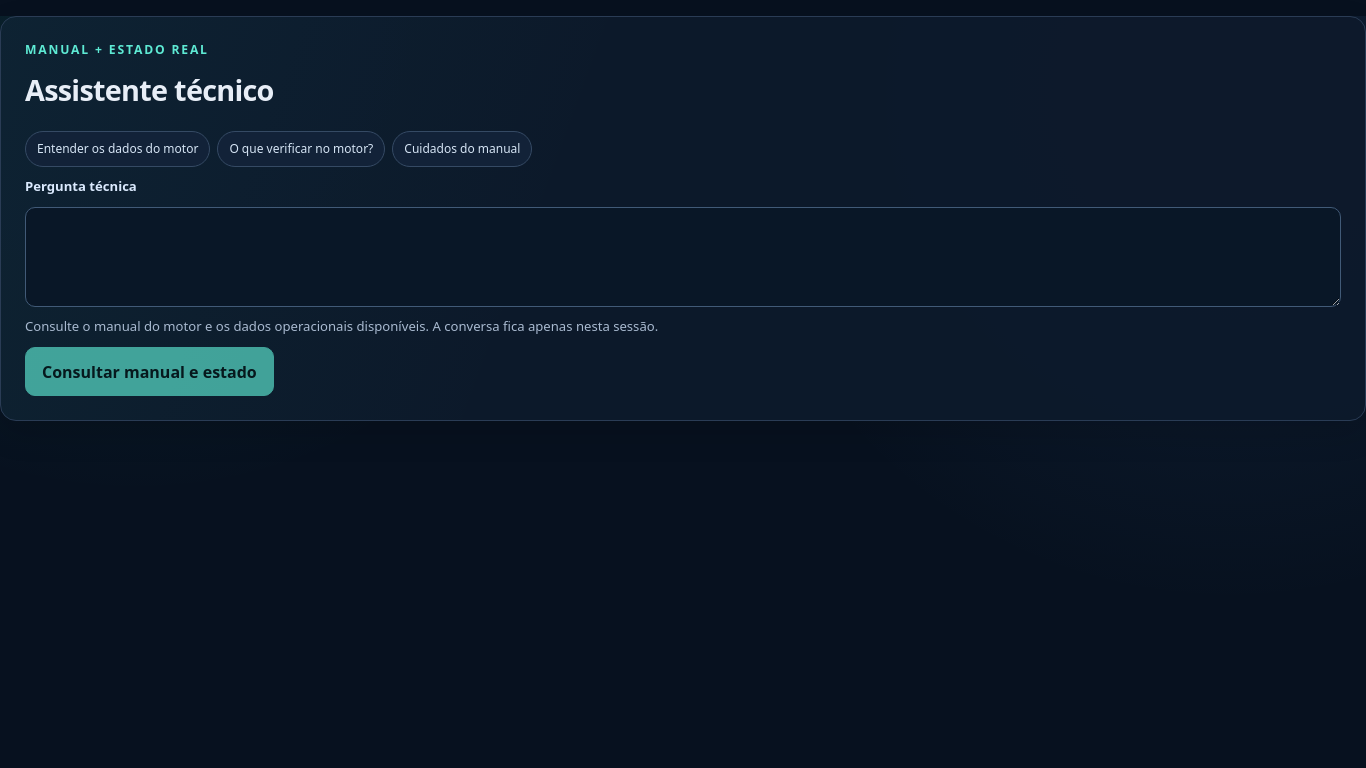
it: TechnicalAssistantPanel grounded answer › aborts on cancel, suppresses stale completions and keeps the newest response
The width and height of the screenshot is (1366, 768).
In the text box labelled "Pergunta técnica": (683, 257) [25, 207, 1341, 307], type "Primeira pergunta"
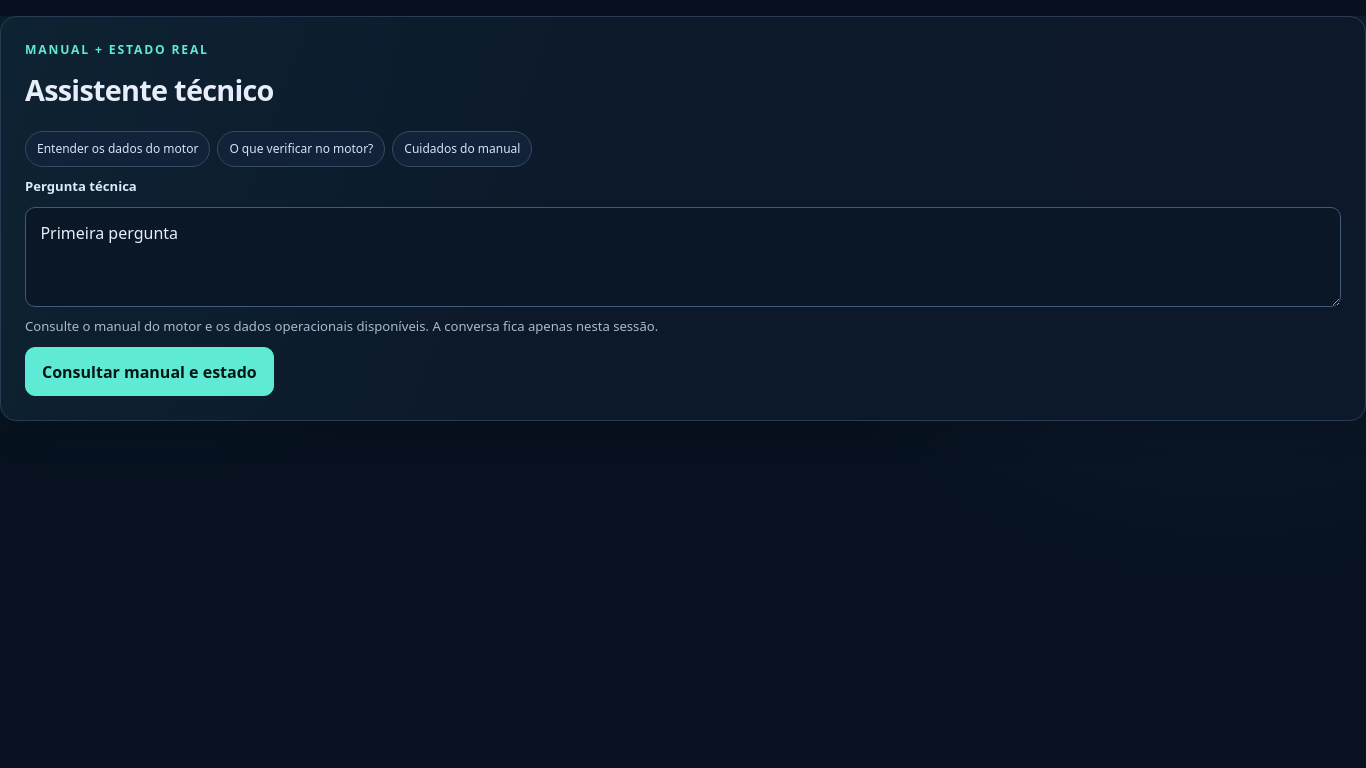
Submit the form named "Consultar o assistente técnico", box [25, 177, 1341, 396]
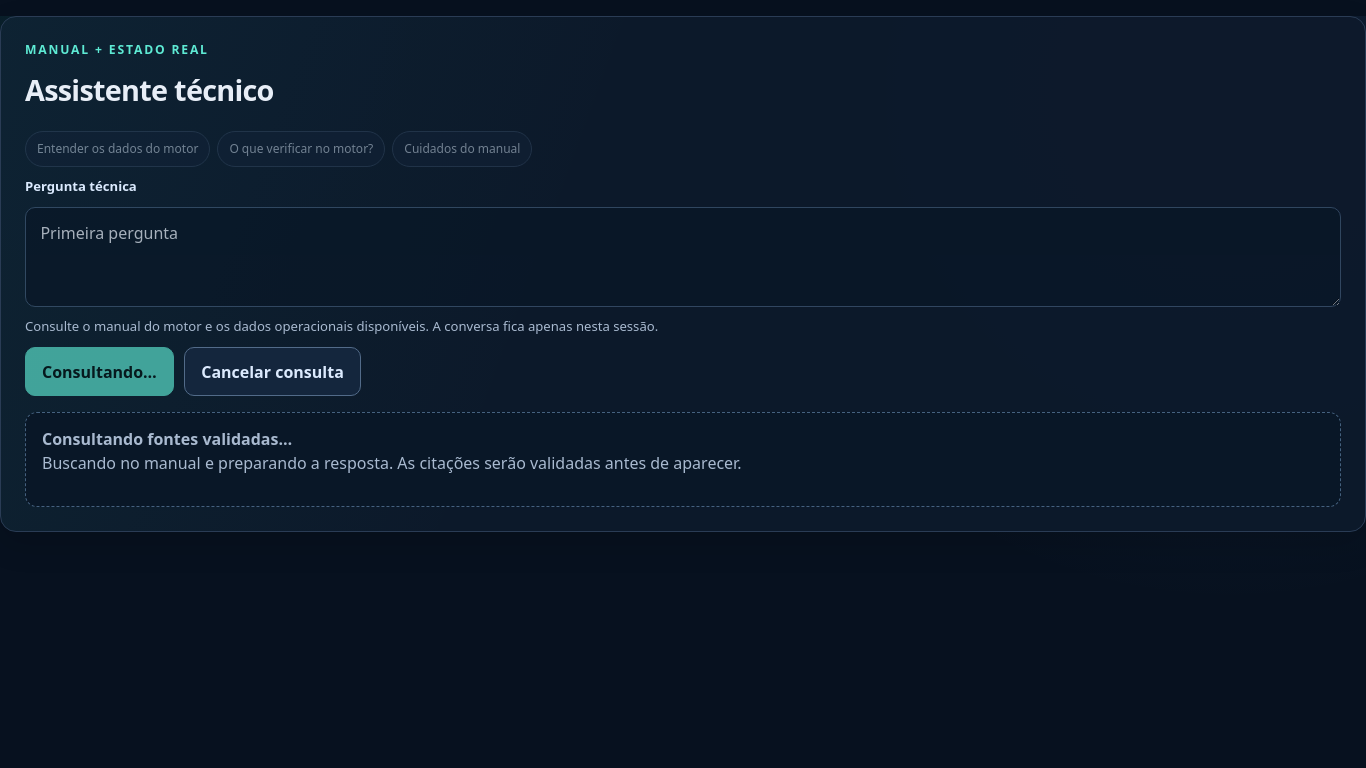
Click the button "Cancelar consulta": (272, 372) [184, 347, 361, 396]
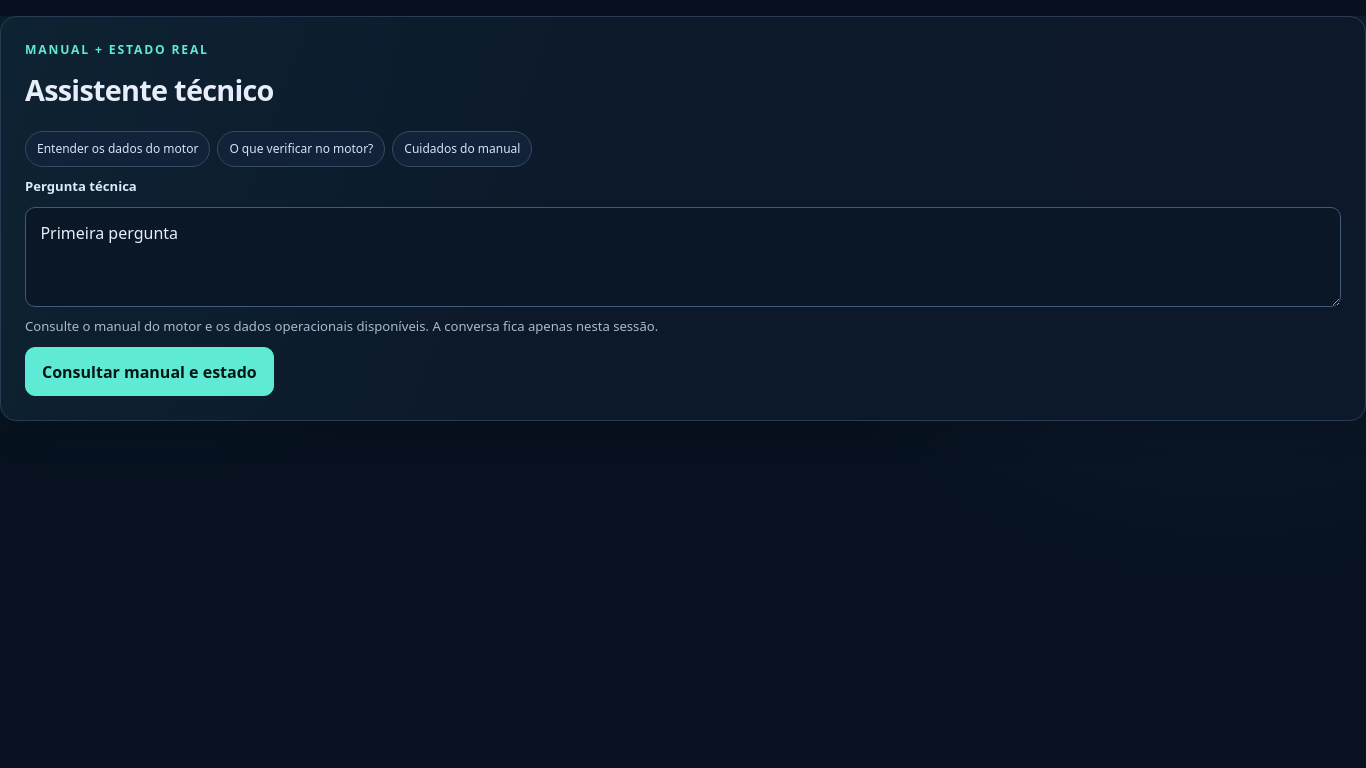
Replace the text in the text box labelled "Pergunta técnica" with "Pergunta mais recente": (683, 257) [25, 207, 1341, 307]
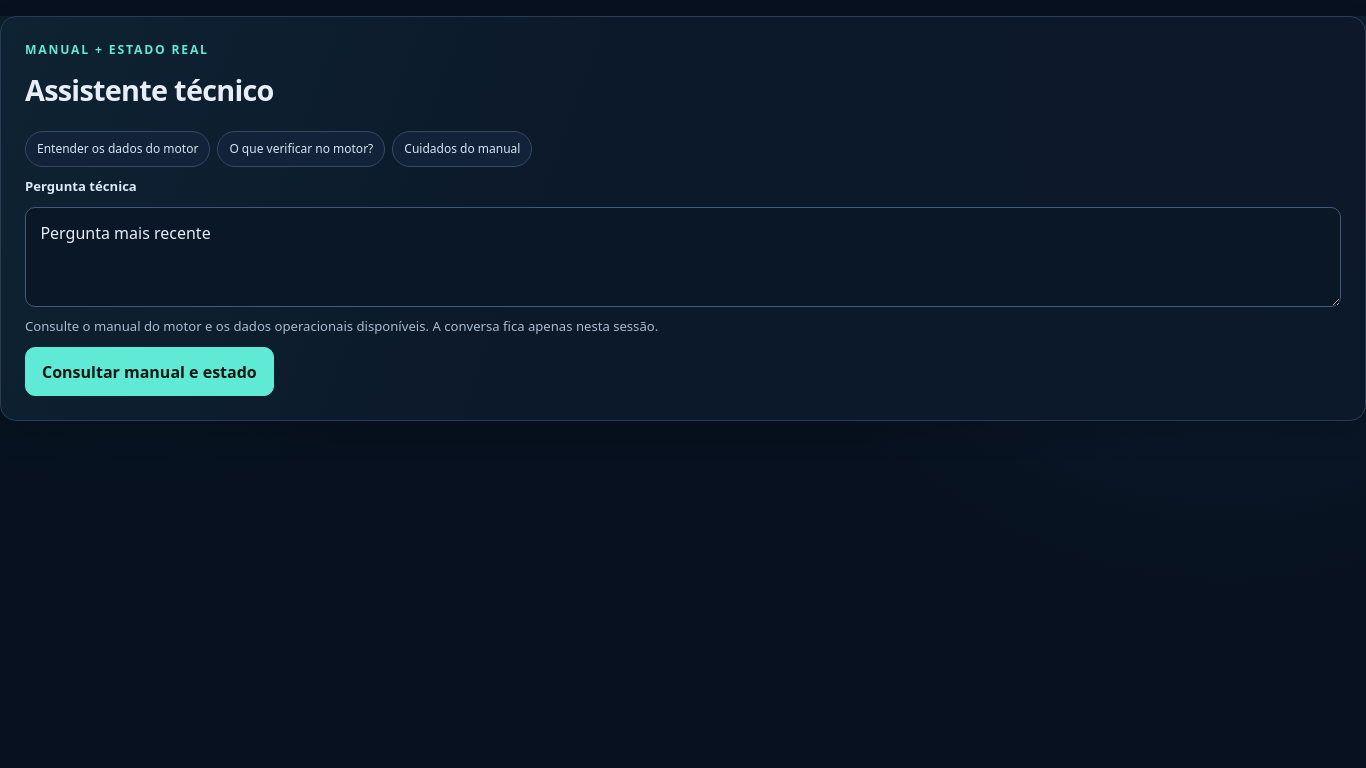
Submit the form named "Consultar o assistente técnico", box [25, 177, 1341, 396]
(page scrolled)
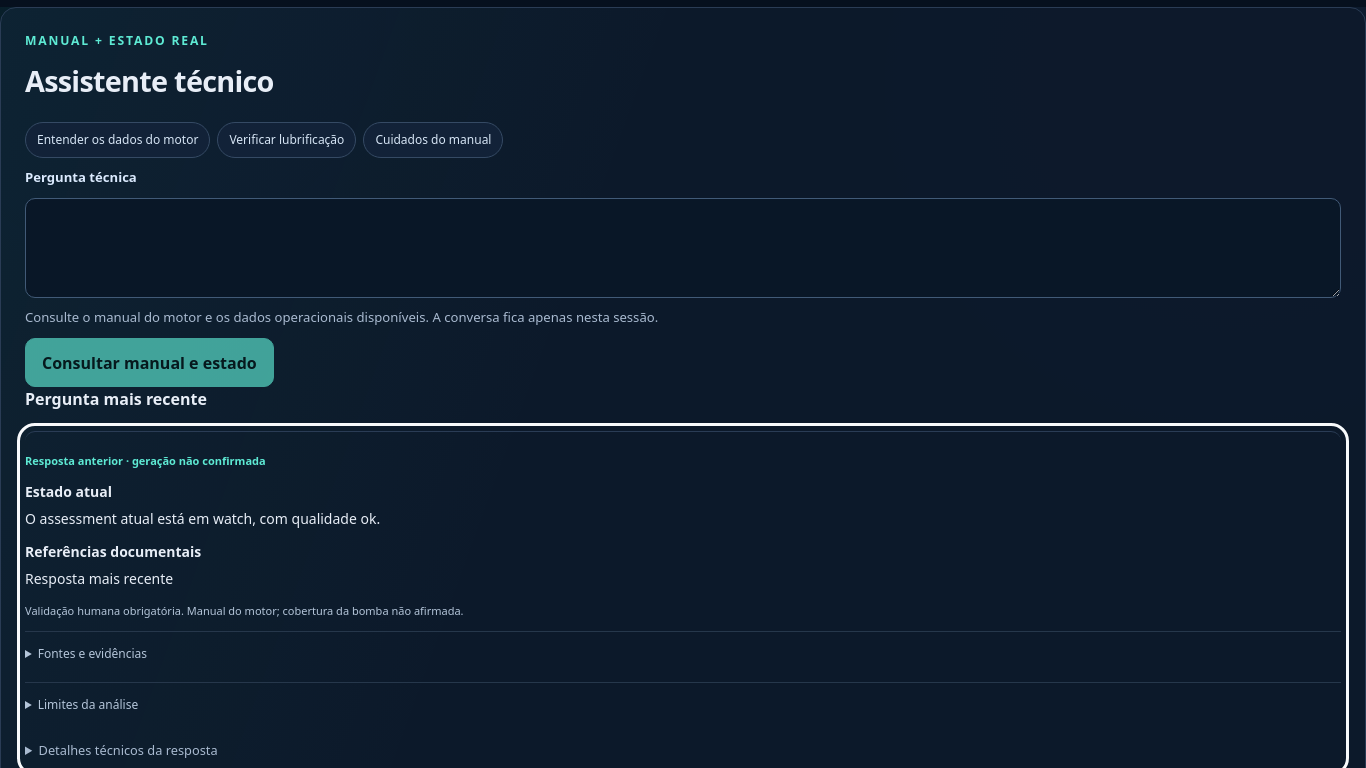
Expected: the text "Resposta mais recente" is shown, [25, 570, 173, 588]
